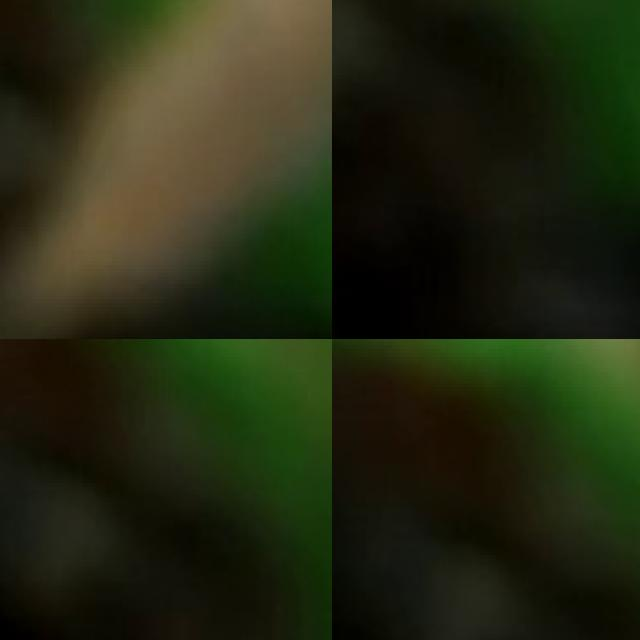fish: (0, 0, 332, 339)
